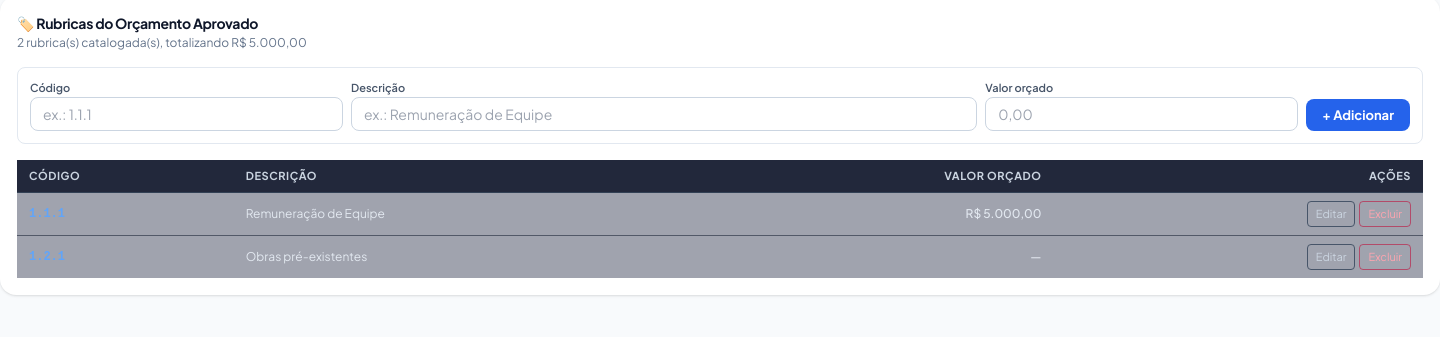
Test case: RubricasProjeto › cadastra uma rubrica via POST e recarrega
The image size is (1440, 337).
Expected: the text "Remuneração de Equipe" is shown, [246,206,385,220]
In the field with placeholder "ex.: 1.1.1": point(187, 114) [30,96,343,130], type "1.3.1"
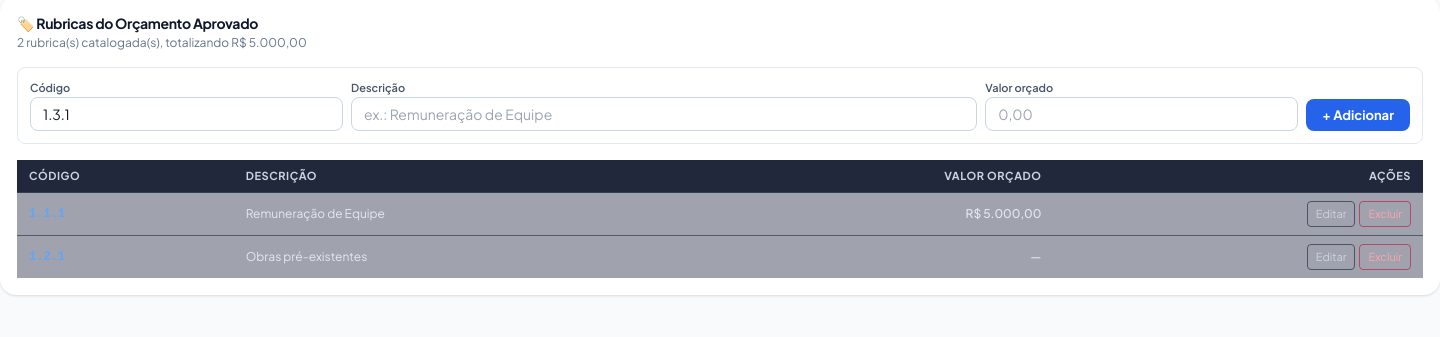
In the field with placeholder "ex.: Remuneração de Equipe": point(664, 114) [351,96,977,130], type "Consultoria"
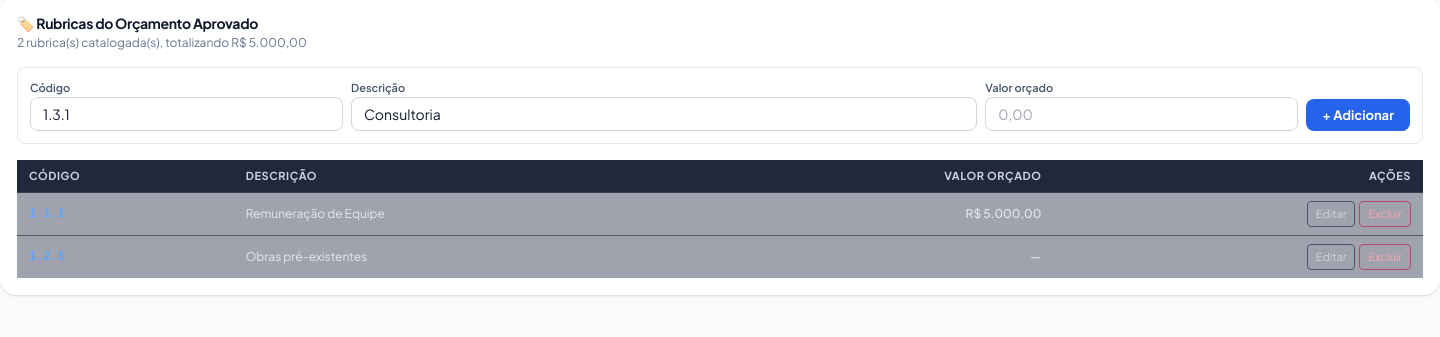
Click the button "+ Adicionar": point(1358, 114) [1306,98,1410,130]
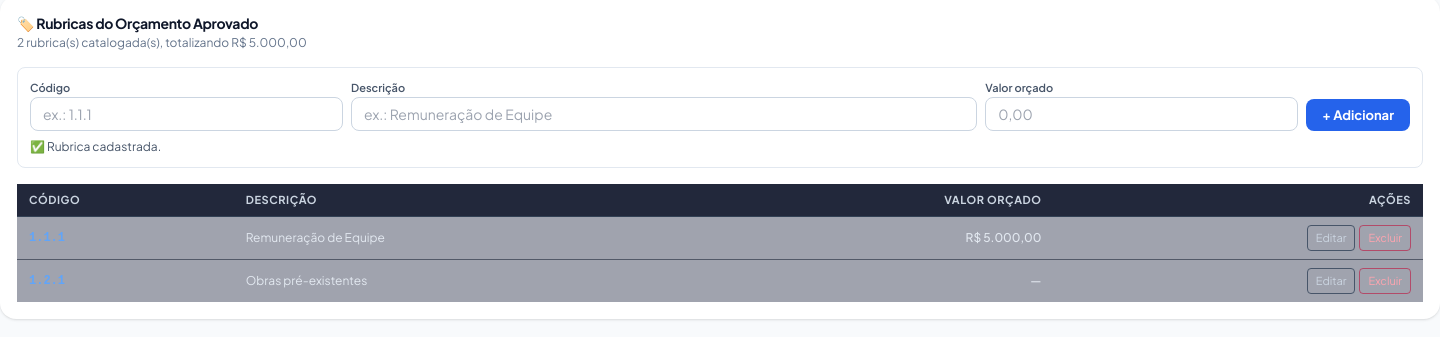
Now the text "✅ Rubrica cadastrada." is shown, box [30,138,161,154]
